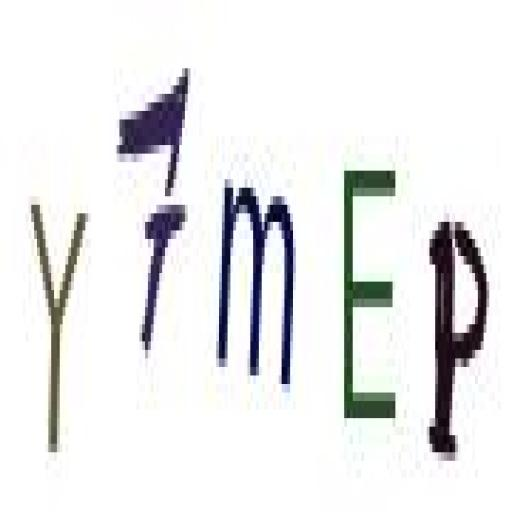7: (110, 60, 196, 385)
E: (337, 139, 406, 451)
P: (422, 194, 493, 479)
Y: (25, 178, 95, 470)
m: (216, 147, 299, 417)
